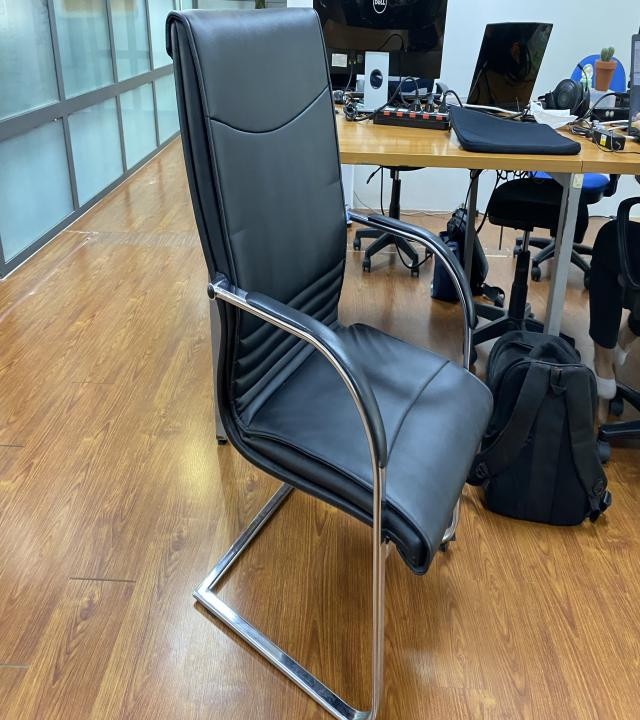SS_03: (163, 3, 496, 720)
